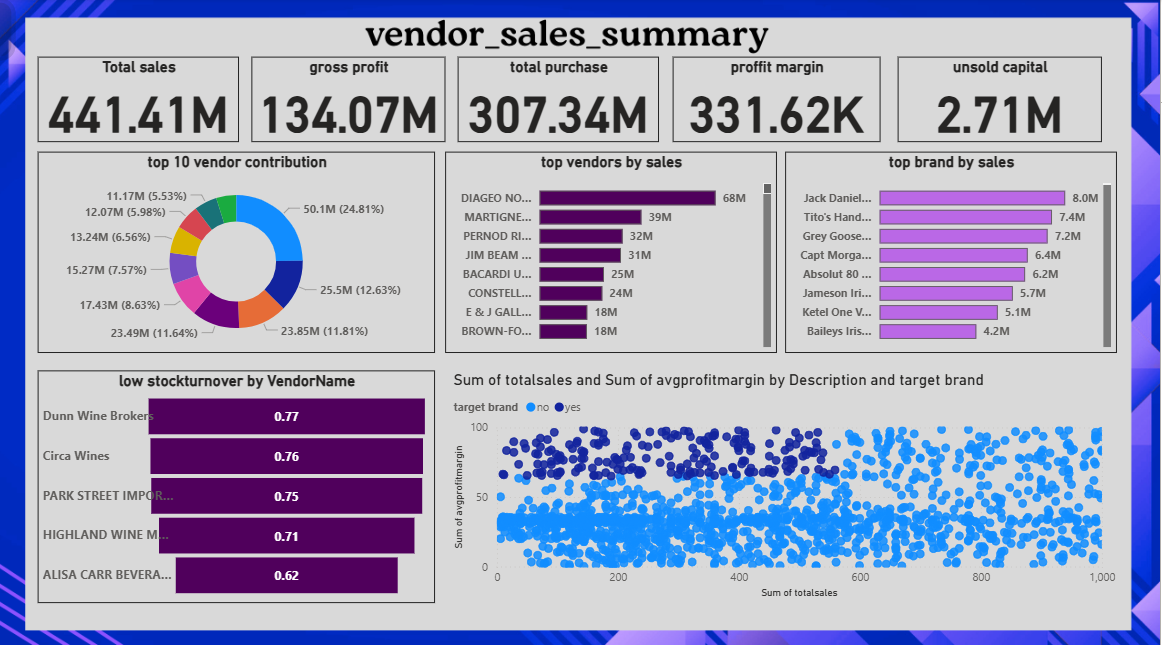

What the dashboard file says about the page in this screenshot:
{"tool":"powerbi","page":{"name":"vendor sales summary","canvas":[1280,720],"ordinal":0},"visuals":[{"type":"card","title":"Total sales","fields":{"Values":["Sum(vendor_sales_summary.totalsalesdollars)"]},"box":[48,64.5,220.9,93.3],"z":0},{"type":"card","title":"gross profit","fields":{"Values":["Sum(vendor_sales_summary.Grossprofit)"]},"box":[282.7,64.5,212.7,93.3],"z":1},{"type":"card","title":"total purchase","fields":{"Values":["Sum(vendor_sales_summary.totaldollars)"]},"box":[509.1,64.5,220.9,93.3],"z":2},{"type":"card","title":"proffit margin","fields":{"Values":["Sum(vendor_sales_summary.profitmargin)"]},"box":[745.1,64.5,227.8,93.3],"z":3},{"type":"card","title":"unsold capital","fields":{"Values":["Sum(vendor_sales_summary.unsold capital)"]},"box":[992.1,64.5,223.7,93.3],"z":4},{"type":"donutChart","title":"top 10 vendor contribution","fields":{"Y":["Sum(Top10Vendors.TotalDollars)"],"Category":["Top10Vendors.VendorName"]},"box":[48,168.8,436.4,220.9],"z":5},{"type":"barChart","title":"top vendors by sales","fields":{"Y":["Sum(vendor_sales_summary.totalsalesdollars)"],"Category":["vendor_sales_summary.VendorName"]},"box":[495.4,168.8,363.6,220.9],"z":6},{"type":"barChart","title":"top brand  by sales","fields":{"Y":["Sum(vendor_sales_summary.totalsalesdollars)"],"Category":["vendor_sales_summary.Description"]},"box":[868.6,168.8,363.6,220.9],"z":7},{"type":"funnel","title":" low stockturnover by VendorName","fields":{"Y":["Sum(low turnover.avgstockturnover)"],"Category":["low turnover.VendorName"]},"box":[48,408.9,436.4,255.2],"z":8},{"type":"scatterChart","fields":{"X":["Sum(brand performance.totalsales)"],"Category":["brand performance.Description"],"Y":["Sum(brand performance.avgprofitmargin)"],"Series":["brand performance.target brand"]},"box":[499.5,408.9,736.9,255.2],"z":9}]}

Visuals, with their boxes in screenshot pixels (x1, y1, x2, y2), scaled from the page's 1280x720 canvas onto the 1162x645 screenshot:
"Total sales" card: Rect(44, 58, 244, 141)
"gross profit" card: Rect(257, 58, 450, 141)
"total purchase" card: Rect(462, 58, 663, 141)
"proffit margin" card: Rect(676, 58, 883, 141)
"unsold capital" card: Rect(901, 58, 1104, 141)
"top 10 vendor contribution" donutChart: Rect(44, 151, 440, 349)
"top vendors by sales" barChart: Rect(450, 151, 780, 349)
"top brand  by sales" barChart: Rect(789, 151, 1119, 349)
" low stockturnover by VendorName" funnel: Rect(44, 366, 440, 595)
scatterChart - Sum(brand performance.totalsales) x brand performance.Description: Rect(453, 366, 1122, 595)
